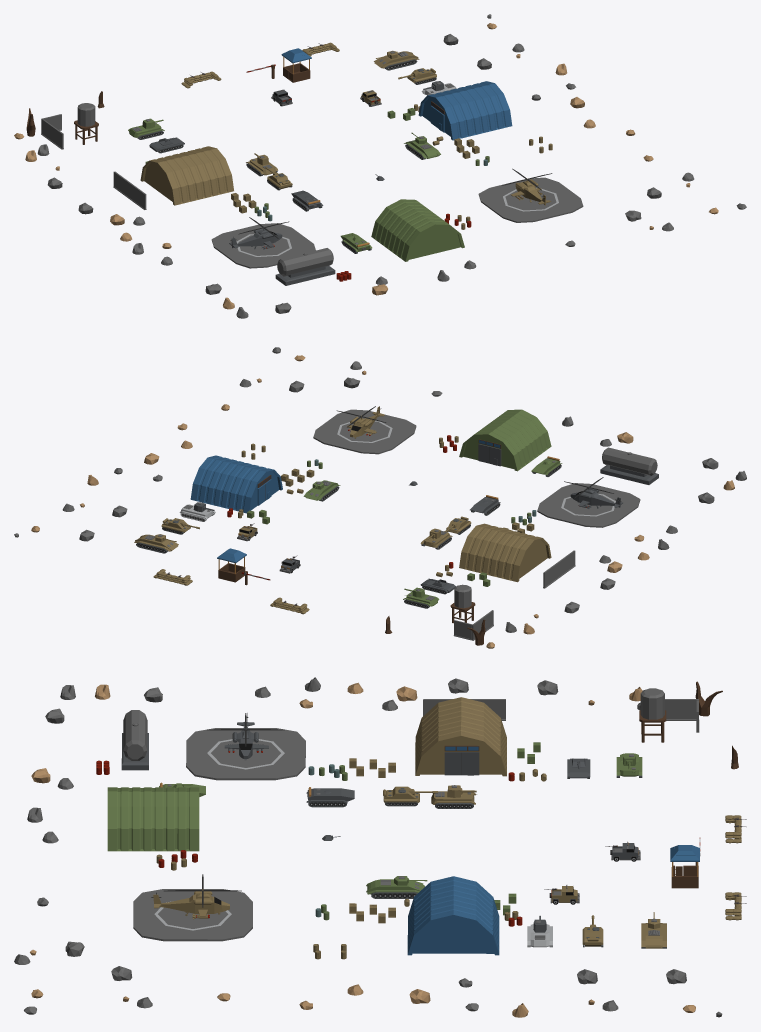
3 renders of one model, top to bottom at view 1: azimuth 30°, elevation 25°; view 2: azimuth 150°, elevation 25°; view 3: azimuth 270°, elevation 25°, orthographic. The views are drawn at different scales.
Parts seen in each view (by area): view 1: silver_001-material (×3), pESOK-material, Material_002-material, green-material, serii-material (×2); view 2: silver_001-material (×3), pESOK-material, Material_002-material, green-material, serii-material (×2); view 3: silver_001-material (×5), green-material (×2), pESOK-material (×2), Material_002-material, serii-material (×3), Material_001-material.
Part boxes in pixels (x1=…): silver_001-material (×3): x1=211, y1=177, x2=583, y2=276; pESOK-material: x1=140, y1=146, x2=233, y2=205; Material_002-material: x1=418, y1=81, x2=512, y2=140; green-material: x1=371, y1=199, x2=464, y2=261; serii-material (×2): x1=229, y1=227, x2=335, y2=285; silver_001-material (×3): x1=313, y1=409, x2=657, y2=527; pESOK-material: x1=459, y1=523, x2=551, y2=582; Material_002-material: x1=190, y1=455, x2=282, y2=513; green-material: x1=459, y1=409, x2=551, y2=471; serii-material (×2): x1=570, y1=465, x2=658, y2=509; silver_001-material (×5): x1=123, y1=688, x2=698, y2=941; green-material (×2): x1=107, y1=787, x2=424, y2=894; pESOK-material (×2): x1=153, y1=697, x2=506, y2=916; Material_002-material: x1=407, y1=876, x2=499, y2=955; serii-material (×3): x1=224, y1=713, x2=479, y2=803; Material_001-material: x1=671, y1=865, x2=698, y2=888.
Size of the model in its own units: 17.57 by 1.16 by 16.37.
